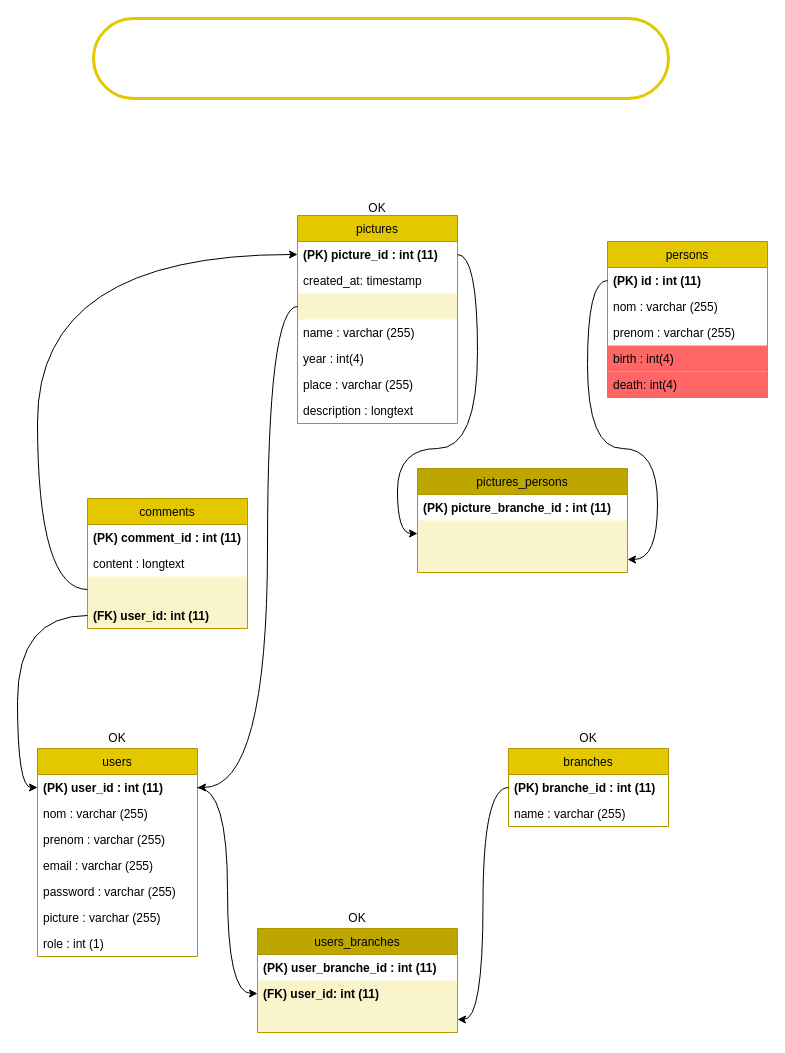
The diagram is 785 pixels wide and 1053 high, and some of its shapes have lost their labels. Each missing label, with the centre of its shape:
(FK) branche_id: int (2): point 357,1019
(FK) owner_id: int (11): point 377,306
(FK) person_id: int (11): point 522,559
(FK) picture_id : int (11): point 522,533
(FK) picture_id: int (11): point 167,589
Photos de Famille - Database: point 381,58
